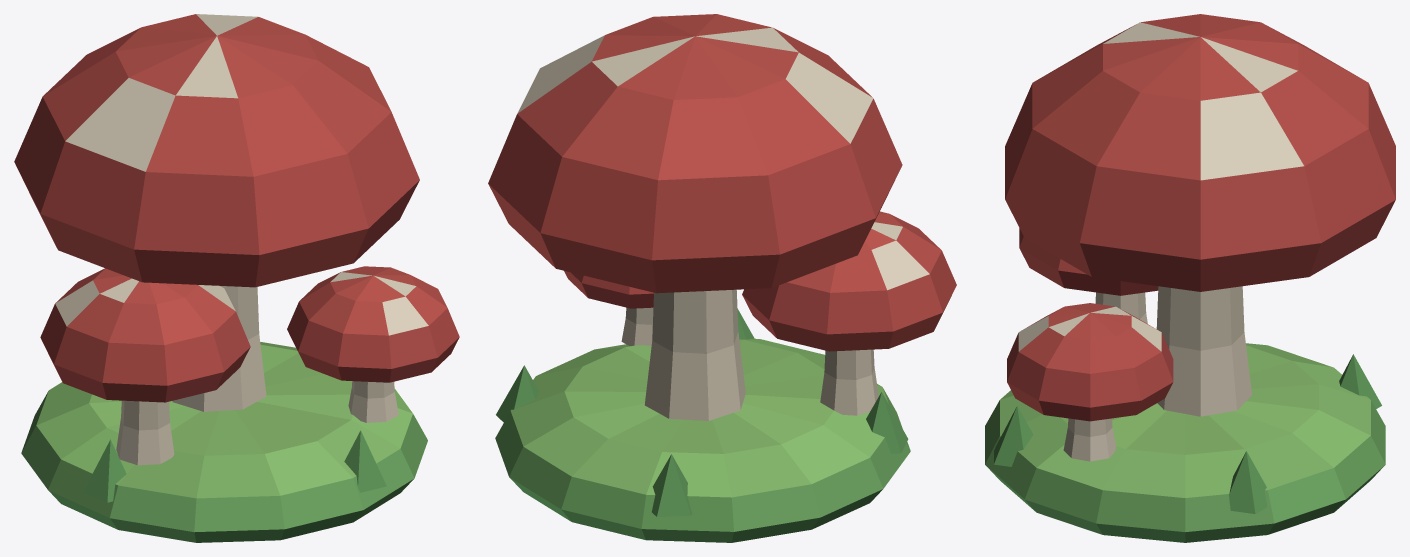
File: plot_skin_mushroom.fbx
3 views of the same model, side by side, from view 1: azimuth 30°, elevation 25°; view 2: azimuth 150°, elevation 25°; view 3: azimuth 270°, elevation 25° (orthographic). The views are drawn at different scales.
Visible parts, largest first — view 1: plot_skin_mushroom; view 2: plot_skin_mushroom; view 3: plot_skin_mushroom.
Part boxes in pixels (left/top/right/bottom): plot_skin_mushroom: left=14, top=14, right=459, bottom=542; plot_skin_mushroom: left=488, top=14, right=956, bottom=542; plot_skin_mushroom: left=985, top=14, right=1395, bottom=542.
Size of the model in its own units: 5.8 by 6.17 by 5.4.
